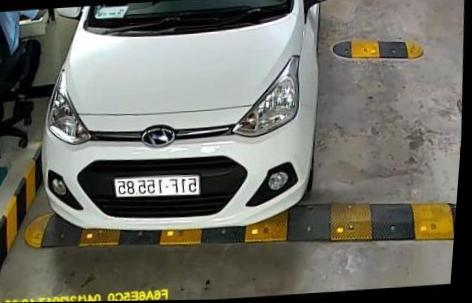License_Plate: (109, 168, 203, 203)
